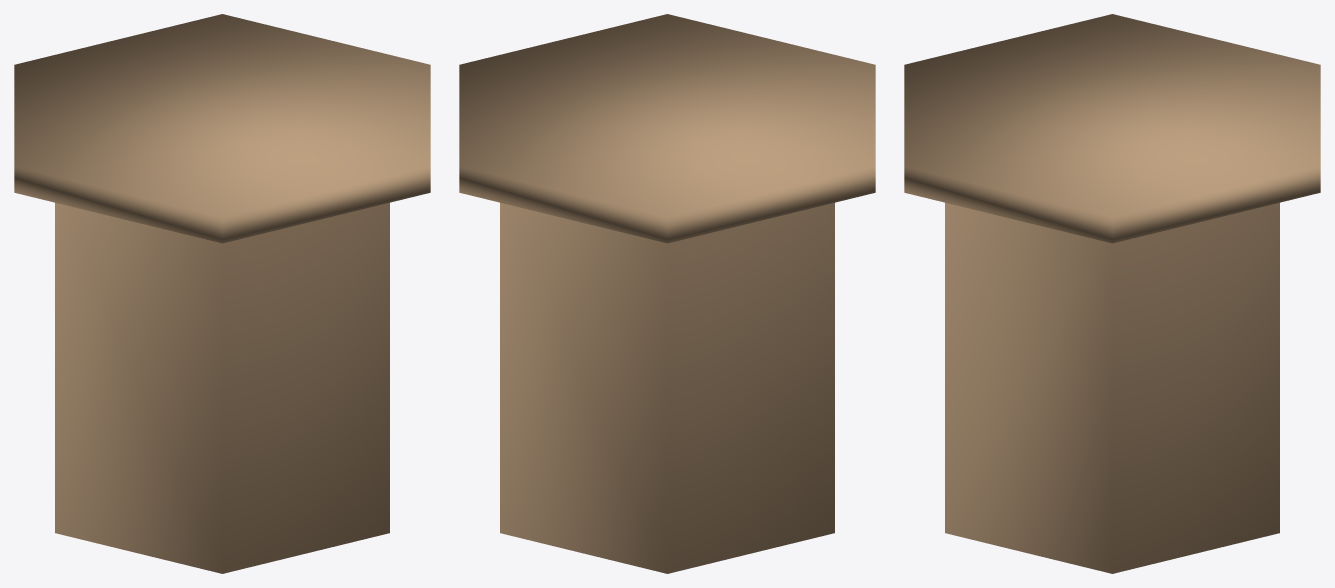
The model's file is stool.glb.
The picture shows the model from 3 angles, left to right: view 1: azimuth 30°, elevation 25°; view 2: azimuth 150°, elevation 25°; view 3: azimuth 270°, elevation 25°; orthographic projection.
Parts seen in each view (by area): view 1: Node; view 2: Node; view 3: Node.
Boxes of the visible parts, x1,y1,x2,y2 form: Node: (14,14,430,573); Node: (459,14,875,573); Node: (904,14,1320,573).
Bounding box in the file's own units: 0.4976 × 0.43 × 0.4309.
